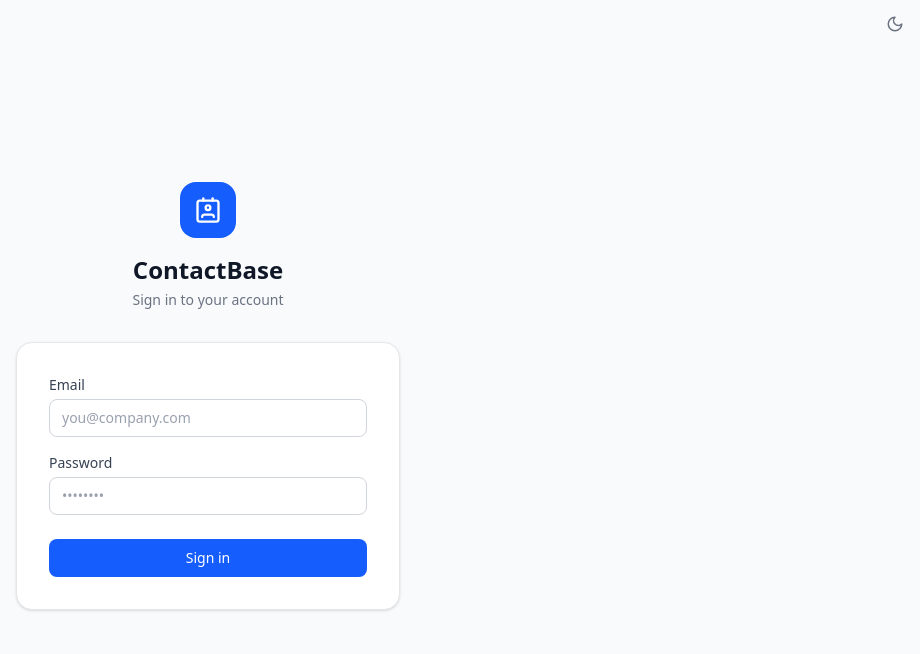
Scenario: LoginPage › shows error message on failed login
Type "admin@gigforge.ai" into the field labelled "Email" at (208, 418), box [49,399,367,437]
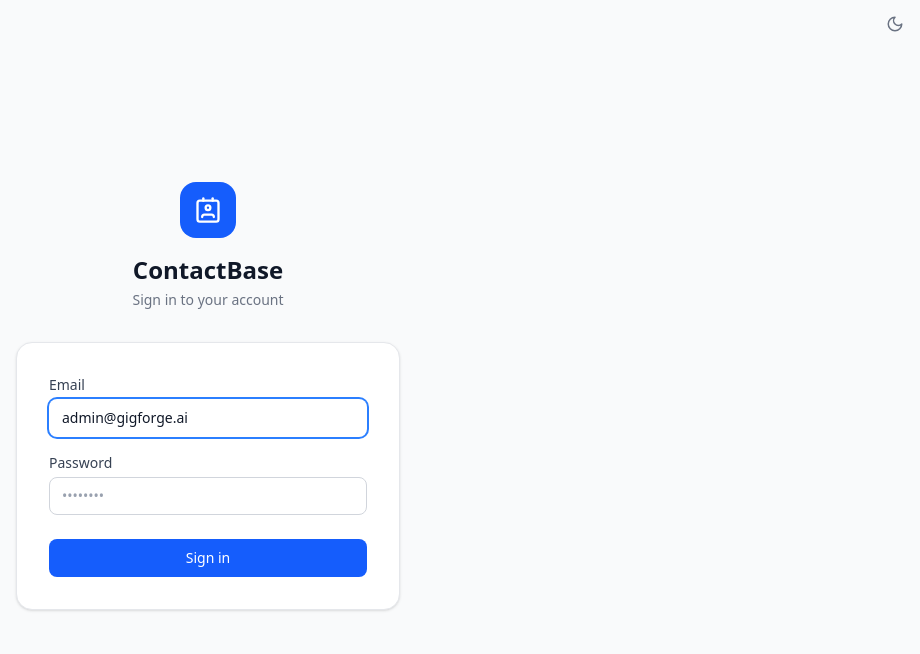
Type "wrongpass" into the password field labelled "Password" at (208, 496), box [49,477,367,515]
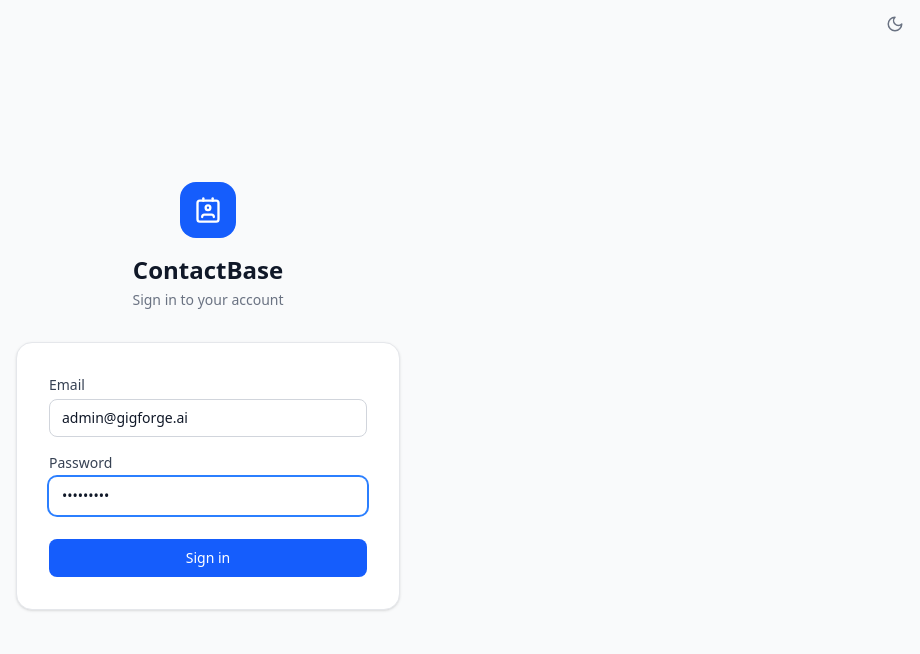
Click the button "Sign in" at (208, 558), box [49,539,367,577]
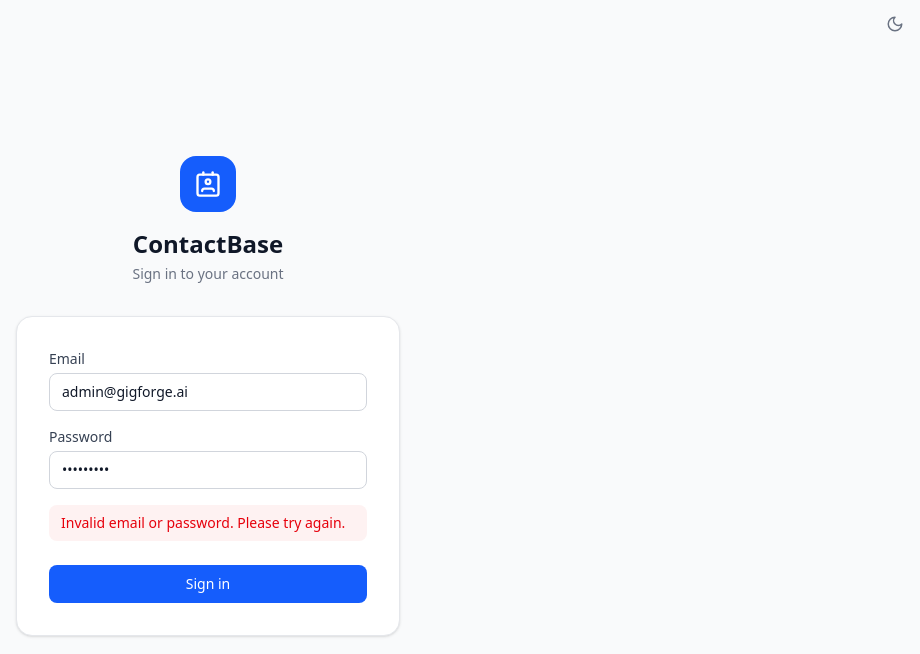
Now the message "Invalid email or password. Please try again." is shown, box [49,505,367,541]
